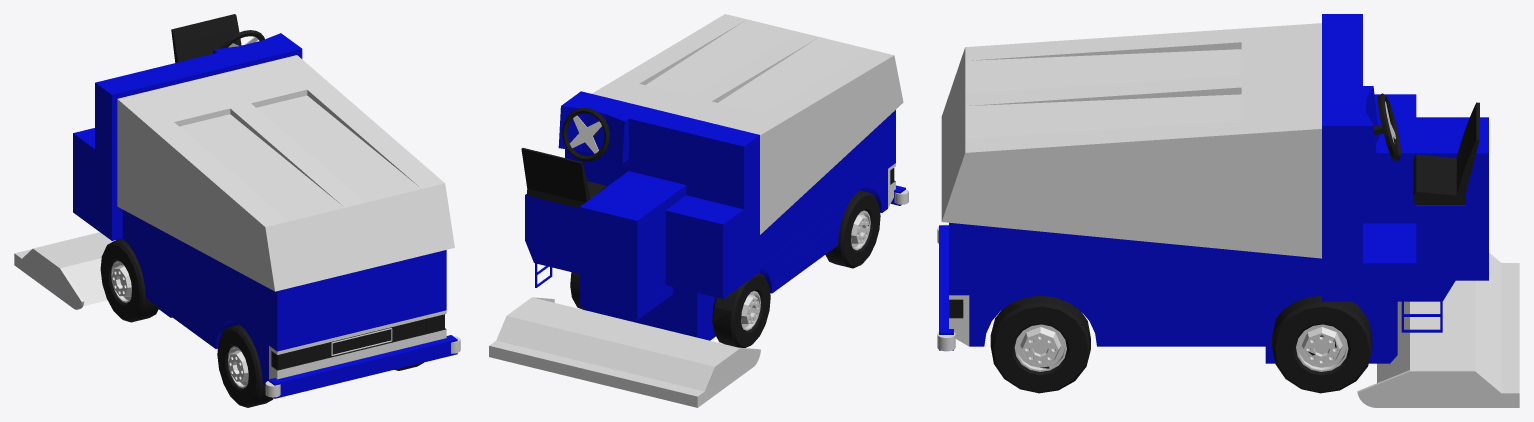
Rendered from zamboni.fbx.
The picture shows the model from 3 angles, left to right: view 1: azimuth 30°, elevation 25°; view 2: azimuth 150°, elevation 25°; view 3: azimuth 270°, elevation 25°; orthographic projection. The views are drawn at different scales.
Visible parts, largest first — view 1: Zamboni; view 2: Zamboni; view 3: Zamboni.
Boxes of the visible parts, box(x1,y1,x2,y2) form: Zamboni: box(14, 14, 460, 407); Zamboni: box(489, 14, 908, 407); Zamboni: box(937, 14, 1519, 407).
Bounding box in the file's own units: 213 × 216 × 402.
